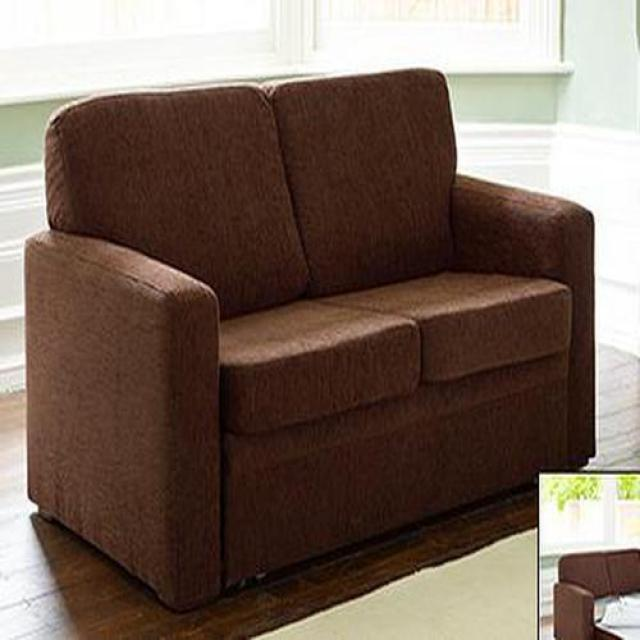sofa: (23, 69, 595, 612)
